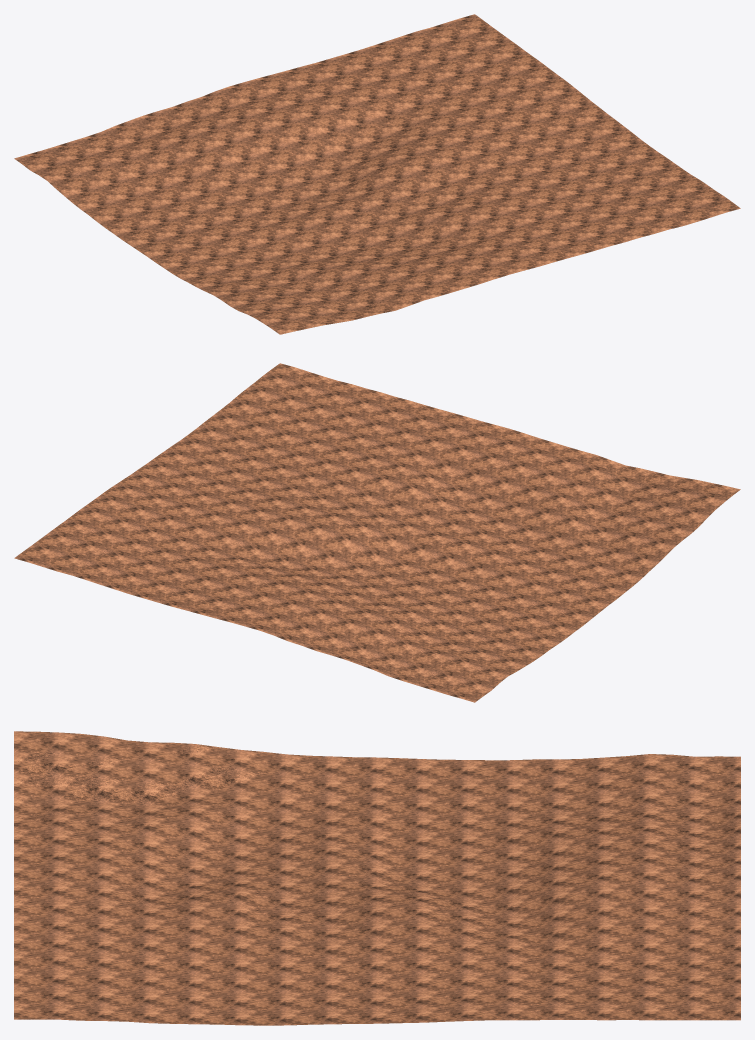
The model's file is terrain_10_10.dae.
3 renders of one model, top to bottom at view 1: azimuth 30°, elevation 25°; view 2: azimuth 150°, elevation 25°; view 3: azimuth 270°, elevation 25°, orthographic. The views are drawn at different scales.
Visible parts, largest first — view 1: terrain_10_10-node; view 2: terrain_10_10-node; view 3: terrain_10_10-node.
Part boxes in pixels (x1,y1,x2,y2): terrain_10_10-node: (14,14,740,334); terrain_10_10-node: (14,363,740,702); terrain_10_10-node: (14,731,740,1025).
Bounding box in the file's own units: 128 × 128 × 9.31.
1 material, 1 textured.
